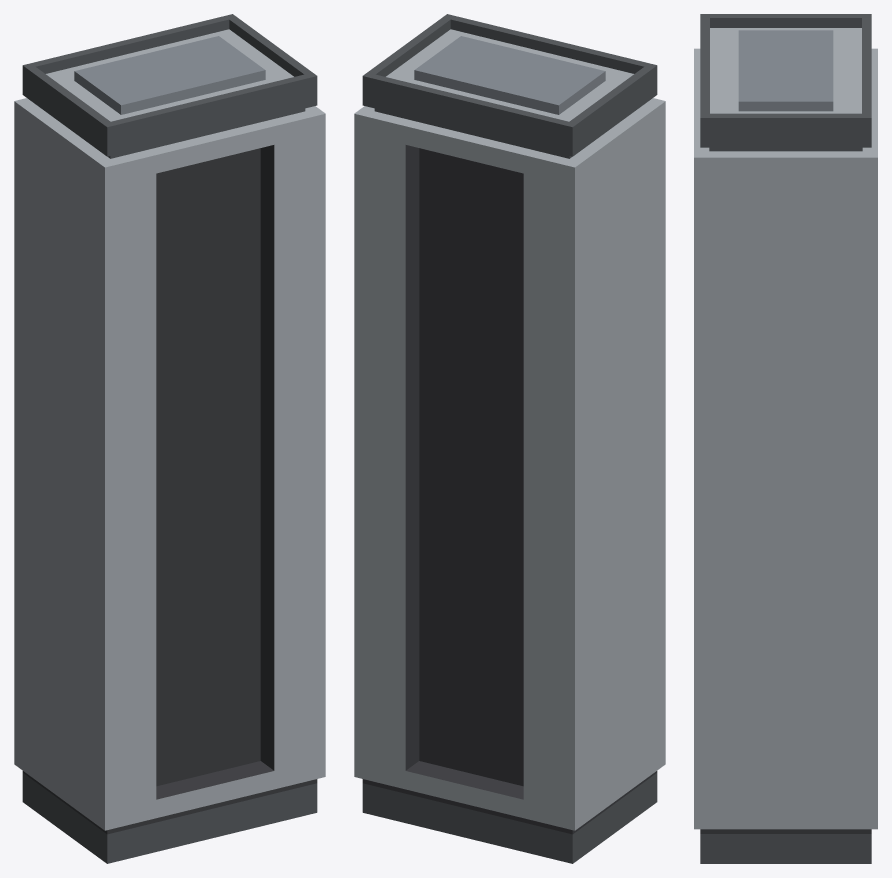
Rendered from talo16.fbx.
The picture shows the model from 3 angles, left to right: view 1: azimuth 30°, elevation 25°; view 2: azimuth 150°, elevation 25°; view 3: azimuth 270°, elevation 25°; orthographic projection.
Visible parts, largest first — view 1: talo16; view 2: talo16; view 3: talo16.
Part boxes in pixels (x1,y1,x2,y2): talo16: (14, 14, 325, 863); talo16: (354, 14, 665, 863); talo16: (694, 14, 877, 863).
Size of the model in its own units: 150 by 477 by 107.
